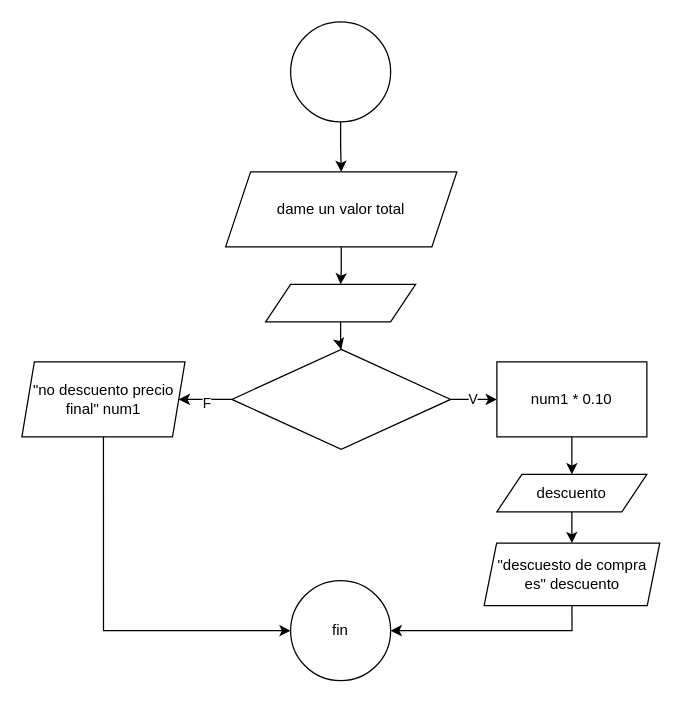
The diagram is 683 pixels wide and 703 high, and some of its shapes have lost their labels. The centre of each missing label's shape, as x and y in pixels:
"inicio" goes at point 340,71.
"num1" goes at point 340,302.
"num1 > 100" goes at point 341,398.
